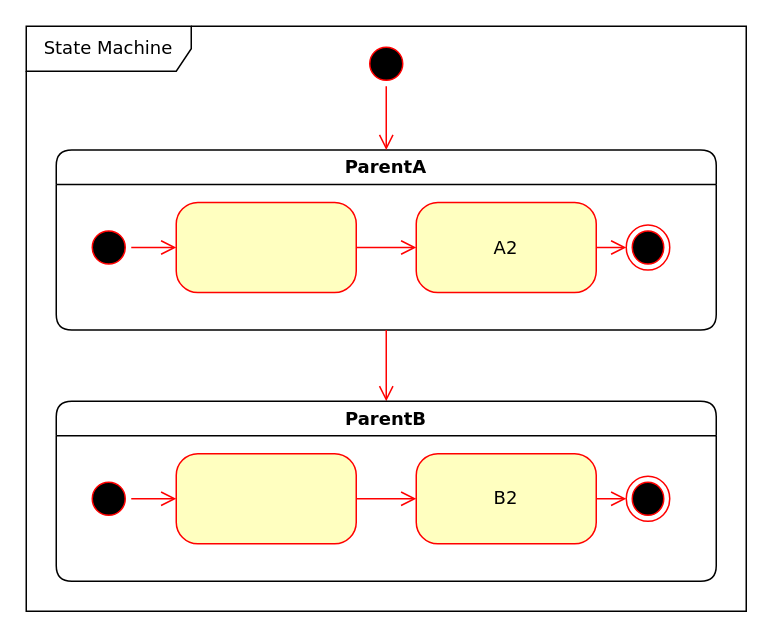
This 773x638 diagram has some shape labels left out. The shapes that lost their labels are listed below. From the top down, each one's centre as x and y in pixels, then its label:
the point at 265,246: A1
the point at 265,498: B1
